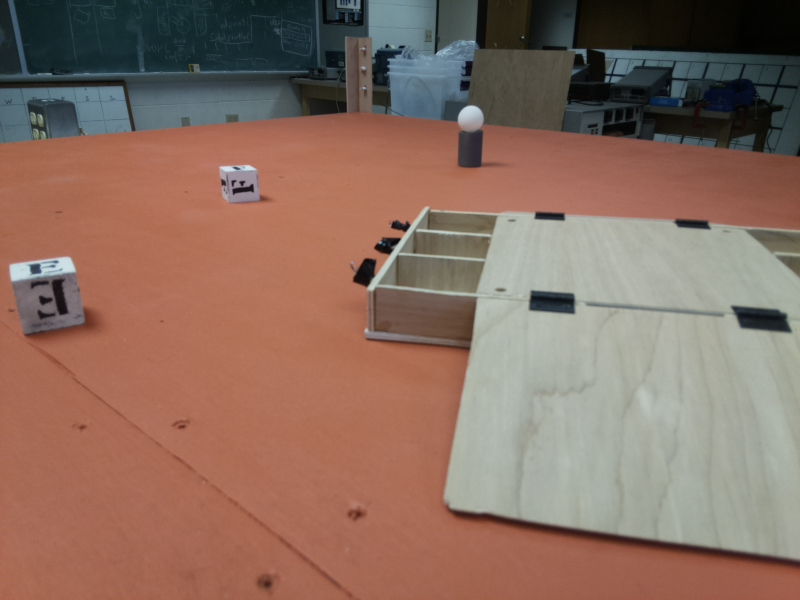blockE: (17, 255, 83, 346)
blockF: (222, 163, 263, 203)
corner: (345, 36, 373, 117)
obstacle: (459, 106, 486, 169)
side: (346, 207, 473, 343)
slope: (482, 285, 800, 547)
